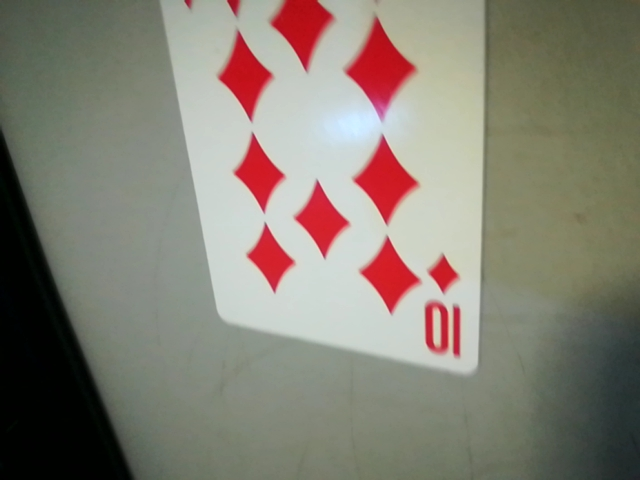fk 10: (414, 246, 476, 370)
